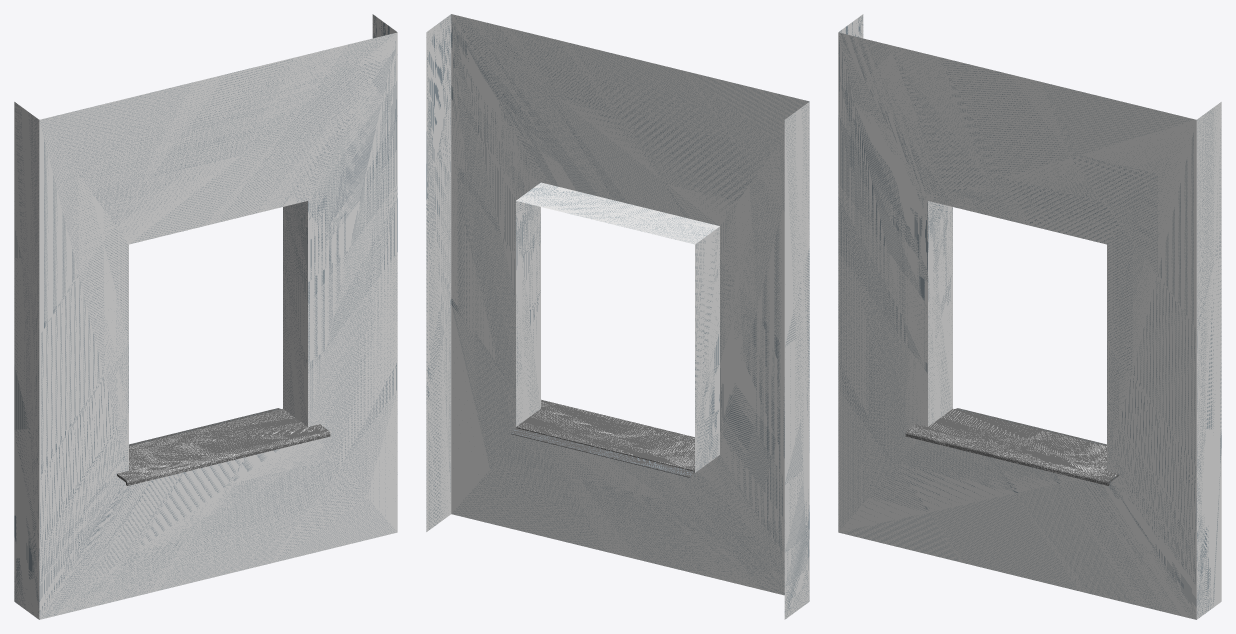
Rendered from WindowBlock_os_[300x400]_150x181x[100].dae.
The picture shows the model from 3 angles, left to right: view 1: azimuth 30°, elevation 25°; view 2: azimuth 150°, elevation 25°; view 3: azimuth 330°, elevation 25°; orthographic projection.
Visible parts, largest first — view 1: group_2 (×2), group_1; view 2: group_2 (×2), group_1 (×2); view 3: group_2 (×2), group_1.
Part boxes in pixels (x1=…): group_2 (×2): x1=14, y1=14, x2=397, y2=619; group_1: x1=117, y1=409, x2=330, y2=485; group_2 (×2): x1=426, y1=14, x2=809, y2=619; group_1 (×2): x1=511, y1=399, x2=694, y2=477; group_2 (×2): x1=838, y1=14, x2=1221, y2=619; group_1: x1=905, y1=409, x2=1118, y2=485.
Bounding box in the file's own units: 118 × 23.03 × 157.
